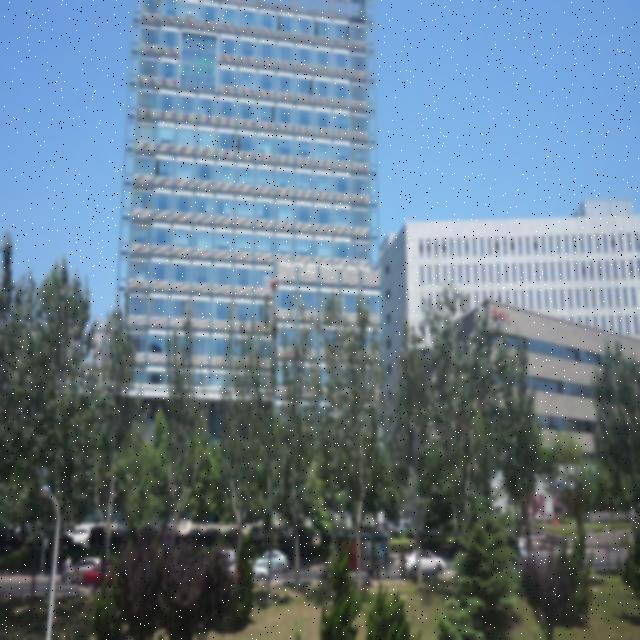UAV: (263, 275, 281, 292)
